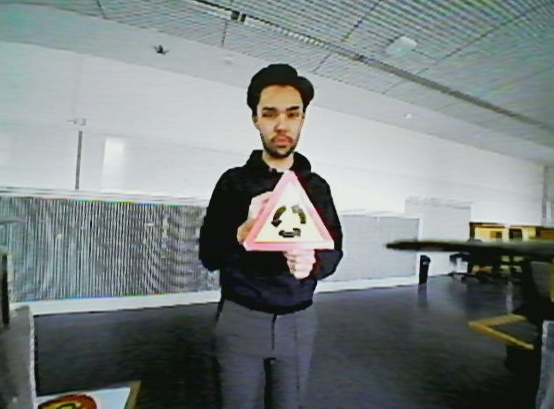roundabout_warning: (242, 170, 336, 252)
